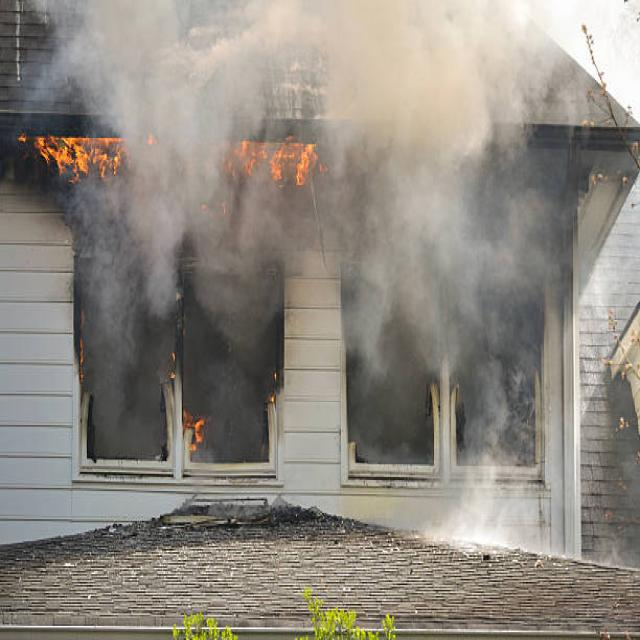smoke: (39, 4, 608, 556)
